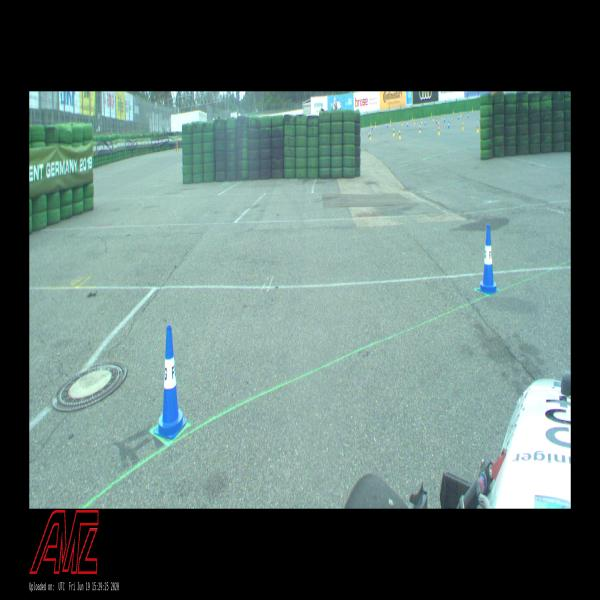blue_cone: (154, 326, 187, 439), (476, 225, 499, 296), (368, 130, 370, 138), (393, 125, 395, 133), (424, 119, 426, 126), (467, 113, 469, 118), (448, 121, 449, 129), (477, 118, 478, 126), (436, 118, 437, 125), (458, 113, 459, 120), (444, 116, 445, 122), (387, 122, 388, 128), (407, 121, 408, 127), (372, 124, 373, 130), (420, 124, 421, 130)
orange_cone: (438, 120, 439, 126)
yellow_cone: (399, 130, 401, 140), (438, 126, 440, 136), (370, 131, 372, 140), (462, 122, 464, 130), (419, 125, 421, 133), (370, 121, 372, 128), (460, 112, 462, 118), (476, 126, 478, 132), (389, 121, 391, 127), (390, 119, 392, 124), (472, 107, 474, 111), (393, 128, 394, 136), (441, 113, 442, 120), (375, 121, 376, 128), (402, 120, 403, 126), (421, 118, 422, 124), (433, 116, 434, 122), (414, 119, 415, 125), (431, 112, 432, 118), (412, 115, 413, 120), (453, 110, 454, 114)
